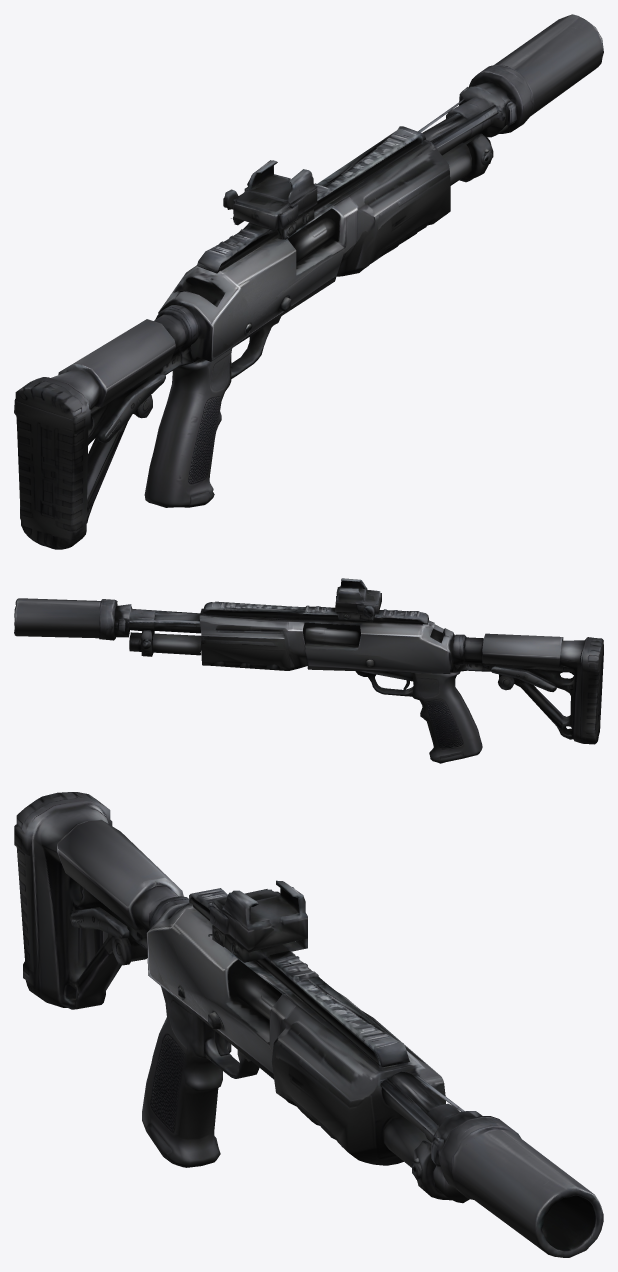
The picture shows the model from 3 angles, top to bottom: view 1: azimuth 30°, elevation 25°; view 2: azimuth 150°, elevation 25°; view 3: azimuth 270°, elevation 25°; orthographic projection. The views are drawn at different scales.
Visible parts, largest first — view 1: tripo_node_07c43828-3078-42f5-8d41-25d41318c2b6; view 2: tripo_node_07c43828-3078-42f5-8d41-25d41318c2b6; view 3: tripo_node_07c43828-3078-42f5-8d41-25d41318c2b6.
Boxes of the visible parts, x1,y1,x2,y2 form: tripo_node_07c43828-3078-42f5-8d41-25d41318c2b6: [14, 14, 603, 549]; tripo_node_07c43828-3078-42f5-8d41-25d41318c2b6: [14, 578, 603, 763]; tripo_node_07c43828-3078-42f5-8d41-25d41318c2b6: [14, 792, 603, 1257].
Size of the model in its own units: 0.998 by 0.3457 by 0.541.
Materials: 1 (1 with a texture image).
